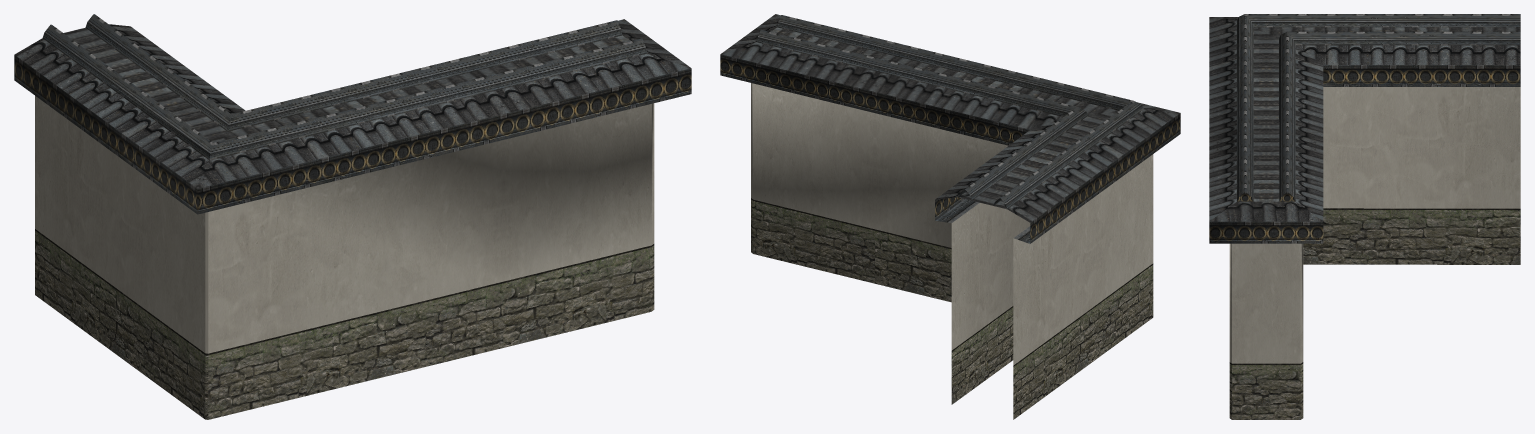
The model's file is japanese_wall_corner_left.FBX.
The picture shows the model from 3 angles, left to right: view 1: azimuth 30°, elevation 25°; view 2: azimuth 150°, elevation 25°; view 3: azimuth 270°, elevation 25°; orthographic projection. The views are drawn at different scales.
Parts seen in each view (by area): view 1: japanese_wall_corner_high_008; view 2: japanese_wall_corner_high_008; view 3: japanese_wall_corner_high_008.
Boxes of the visible parts, x1,y1,x2,y2 form: japanese_wall_corner_high_008: [14, 14, 691, 419]; japanese_wall_corner_high_008: [720, 14, 1180, 419]; japanese_wall_corner_high_008: [1209, 14, 1520, 419].
Bounding box in the file's own units: 666 × 343 × 428.
